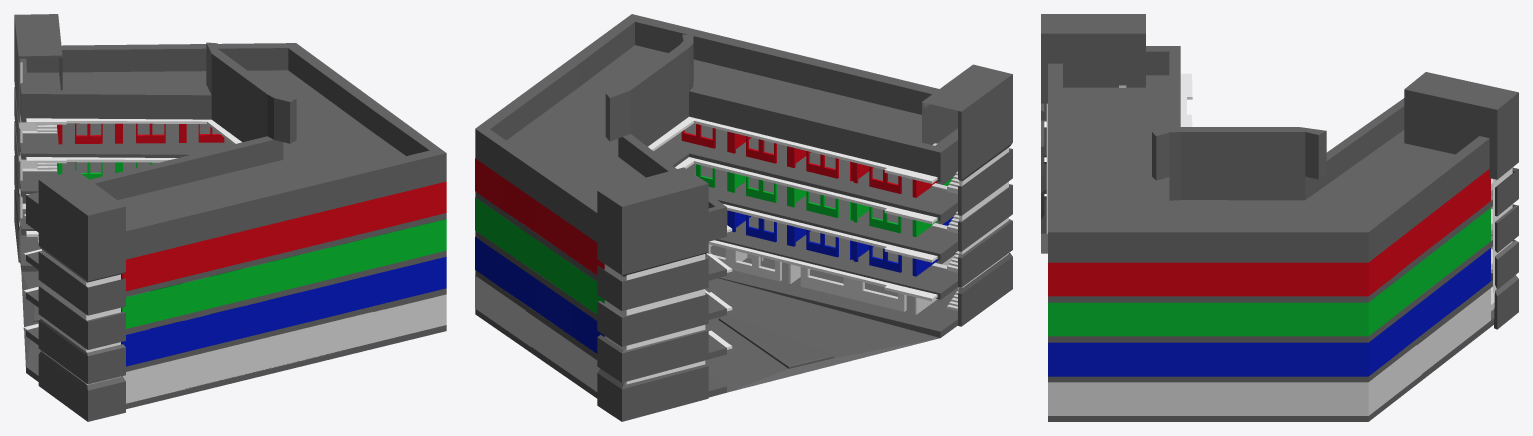
Rendered from ELJ-MODEL.glb.
3 views of the same model, side by side, from view 1: azimuth 30°, elevation 25°; view 2: azimuth 150°, elevation 25°; view 3: azimuth 270°, elevation 25° (orthographic). The views are drawn at different scales.
Visible parts, largest first — view 1: FIRST GROUND.004, Cube.016, 1ST FLOOR.003, 1ST FLOOR.002, 1ST FLOOR.001, 1ST FLOOR, FIRST GROUND.003, FIRST GROUND, FIRST GROUND.002, Cube.018, FIRST GROUND.001, FIRST GROUND.008 (+3 smaller); view 2: FIRST GROUND.004, Cube.018, FIRST GROUND, Cube.016, FIRST GROUND.003, 1ST FLOOR, FIRST GROUND.002, 1ST FLOOR.003, 1ST FLOOR.002, 1ST FLOOR.001, FIRST GROUND.001, FIRST GROUND.008 (+5 smaller); view 3: FIRST GROUND.004, 1ST FLOOR.002, 1ST FLOOR.001, 1ST FLOOR.003, 1ST FLOOR, Cube.018, Cube.016, FIRST GROUND.002, FIRST GROUND.003, FIRST GROUND.001, FIRST GROUND, Cube.019 (+1 smaller).
Boxes of the visible parts, x1,y1,x2,y2 form: FIRST GROUND.004: (20,42,446,259); Cube.016: (38,170,125,421); 1ST FLOOR.003: (57,123,446,291); 1ST FLOOR.002: (57,128,446,328); 1ST FLOOR.001: (121,256,446,366); 1ST FLOOR: (121,294,446,403); FIRST GROUND.003: (20,123,446,296); FIRST GROUND: (20,230,446,409); FIRST GROUND.002: (20,162,446,334); Cube.018: (14,14,62,262); FIRST GROUND.001: (20,209,446,371); FIRST GROUND.008: (23,118,241,218); FIRST GROUND.004: (475,14,957,242); Cube.018: (597,167,708,421); FIRST GROUND: (475,245,958,398); Cube.016: (922,64,1012,326); FIRST GROUND.003: (475,123,957,281); 1ST FLOOR: (475,244,955,391); FIRST GROUND.002: (475,163,957,320); 1ST FLOOR.003: (475,124,937,274); 1ST FLOOR.002: (475,164,953,314); 1ST FLOOR.001: (475,210,953,353); FIRST GROUND.001: (475,210,957,359); FIRST GROUND.008: (648,116,937,232); FIRST GROUND.004: (1048,46,1489,262); 1ST FLOOR.002: (1048,208,1490,336); 1ST FLOOR.001: (1048,248,1490,376); 1ST FLOOR.003: (1048,169,1490,296); 1ST FLOOR: (1048,288,1490,415); Cube.018: (1404,72,1518,329); Cube.016: (1041,14,1145,253); FIRST GROUND.002: (1048,240,1492,342); FIRST GROUND.003: (1048,200,1492,302); FIRST GROUND.001: (1048,280,1492,382); FIRST GROUND: (1048,309,1494,421); Cube.019: (1491,168,1512,293).
Size of the model in its own units: 124 by 72.07 by 133.
